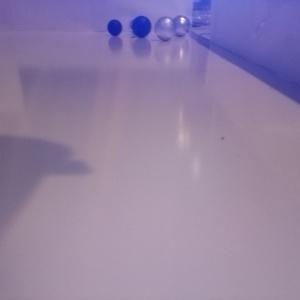alive_ball: (154, 16, 176, 40), (172, 15, 191, 37), (129, 19, 144, 36)
dead_ball: (131, 16, 151, 38), (107, 19, 123, 36)
